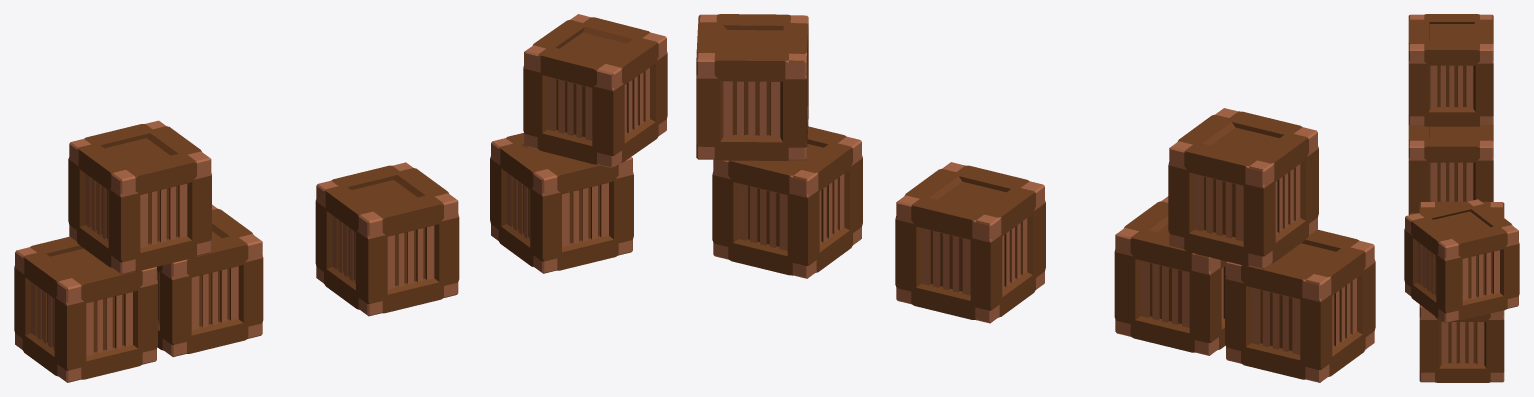
Rendered from kutular.fbx.
3 renders of one model, left to right at view 1: azimuth 30°, elevation 25°; view 2: azimuth 150°, elevation 25°; view 3: azimuth 270°, elevation 25°, orthographic. The views are drawn at different scales.
Visible parts, largest first — view 1: Cube.004, Cube.002, Cube; view 2: Cube.004, Cube.002, Cube; view 3: Cube.002, Cube.004, Cube.
Part boxes in pixels (x1=…): Cube.004: x1=14, y1=120, x2=263, y2=382; Cube.002: x1=490, y1=14, x2=667, y2=273; Cube: x1=315, y1=162, x2=459, y2=316; Cube.004: x1=1114, y1=108, x2=1375, y2=382; Cube.002: x1=696, y1=14, x2=862, y2=278; Cube: x1=895, y1=162, x2=1045, y2=323; Cube.002: x1=1404, y1=199, x2=1519, y2=382; Cube.004: x1=1408, y1=14, x2=1493, y2=215; Cube: x1=1419, y1=201, x2=1504, y2=217.
Size of the model in its own units: 1839 by 575 by 365.
